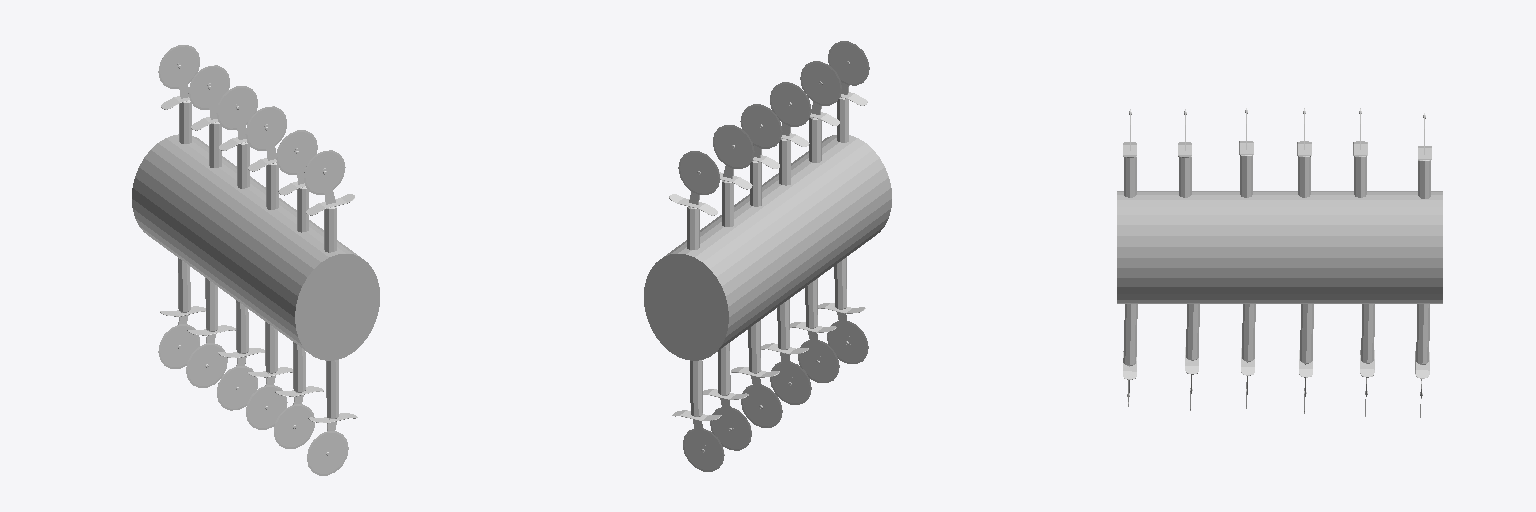
Rendered from donerBicak2.obj.
3 views of the same model, side by side, from view 1: azimuth 30°, elevation 25°; view 2: azimuth 150°, elevation 25°; view 3: azimuth 270°, elevation 25° (orthographic).
Visible parts, largest first — view 1: Cylinder, Pizza_Cutter_Cylinder.005_Pizza_Cutter_Cylinder.010, Pizza_Cutter_Cylinder.009, Pizza_Cutter_Cylinder.018_Pizza_Cutter_Cylinder.019, Pizza_Cutter_Cylinder.015_Pizza_Cutter_Cylinder.017, Pizza_Cutter_Cylinder.002, Pizza_Cutter_Cylinder.017_Pizza_Cutter_Cylinder.018, Pizza_Cutter_Cylinder.013_Pizza_Cutter_Cylinder.014, Pizza_Cutter_Cylinder.004, Pizza_Cutter_Cylinder.016, Pizza_Cutter_Cylinder.014_Pizza_Cutter_Cylinder.015, Pizza_Cutter_Cylinder.003 (+1 smaller); view 2: Cylinder, Pizza_Cutter_Cylinder.013_Pizza_Cutter_Cylinder.014, Pizza_Cutter_Cylinder.016, Pizza_Cutter_Cylinder.001, Pizza_Cutter_Cylinder.017_Pizza_Cutter_Cylinder.018, Pizza_Cutter_Cylinder.003, Pizza_Cutter_Cylinder.014_Pizza_Cutter_Cylinder.015, Pizza_Cutter_Cylinder.018_Pizza_Cutter_Cylinder.019, Pizza_Cutter_Cylinder.002, Pizza_Cutter_Cylinder.005_Pizza_Cutter_Cylinder.010, Pizza_Cutter_Cylinder.015_Pizza_Cutter_Cylinder.017, Pizza_Cutter_Cylinder.004 (+1 smaller); view 3: Cylinder, Pizza_Cutter_Cylinder.013_Pizza_Cutter_Cylinder.014, Pizza_Cutter_Cylinder.005_Pizza_Cutter_Cylinder.010, Pizza_Cutter_Cylinder.018_Pizza_Cutter_Cylinder.019, Pizza_Cutter_Cylinder.017_Pizza_Cutter_Cylinder.018, Pizza_Cutter_Cylinder.014_Pizza_Cutter_Cylinder.015, Pizza_Cutter_Cylinder.015_Pizza_Cutter_Cylinder.017, Pizza_Cutter_Cylinder.002, Pizza_Cutter_Cylinder.003, Pizza_Cutter_Cylinder.004, Pizza_Cutter_Cylinder.001, Pizza_Cutter_Cylinder.009 (+1 smaller).
Boxes of the visible parts, x1=… form: Cylinder: x1=132, y1=134, x2=379, y2=360; Pizza_Cutter_Cylinder.005_Pizza_Cutter_Cylinder.010: x1=307, y1=360, x2=357, y2=475; Pizza_Cutter_Cylinder.009: x1=304, y1=150, x2=354, y2=252; Pizza_Cutter_Cylinder.018_Pizza_Cutter_Cylinder.019: x1=186, y1=278, x2=235, y2=387; Pizza_Cutter_Cylinder.015_Pizza_Cutter_Cylinder.017: x1=274, y1=342, x2=323, y2=448; Pizza_Cutter_Cylinder.002: x1=245, y1=106, x2=286, y2=209; Pizza_Cutter_Cylinder.017_Pizza_Cutter_Cylinder.018: x1=217, y1=300, x2=264, y2=410; Pizza_Cutter_Cylinder.013_Pizza_Cutter_Cylinder.014: x1=158, y1=258, x2=205, y2=368; Pizza_Cutter_Cylinder.004: x1=216, y1=86, x2=257, y2=188; Pizza_Cutter_Cylinder.016: x1=158, y1=45, x2=199, y2=143; Pizza_Cutter_Cylinder.014_Pizza_Cutter_Cylinder.015: x1=246, y1=322, x2=292, y2=429; Pizza_Cutter_Cylinder.003: x1=188, y1=65, x2=229, y2=167; Cylinder: x1=644, y1=135, x2=891, y2=360; Pizza_Cutter_Cylinder.013_Pizza_Cutter_Cylinder.014: x1=672, y1=360, x2=724, y2=471; Pizza_Cutter_Cylinder.016: x1=669, y1=151, x2=719, y2=249; Pizza_Cutter_Cylinder.001: x1=800, y1=61, x2=841, y2=162; Pizza_Cutter_Cylinder.017_Pizza_Cutter_Cylinder.018: x1=731, y1=320, x2=782, y2=427; Pizza_Cutter_Cylinder.003: x1=713, y1=125, x2=754, y2=226; Pizza_Cutter_Cylinder.014_Pizza_Cutter_Cylinder.015: x1=761, y1=299, x2=811, y2=404; Pizza_Cutter_Cylinder.018_Pizza_Cutter_Cylinder.019: x1=703, y1=343, x2=751, y2=450; Pizza_Cutter_Cylinder.002: x1=770, y1=82, x2=811, y2=185; Pizza_Cutter_Cylinder.005_Pizza_Cutter_Cylinder.010: x1=818, y1=257, x2=868, y2=363; Pizza_Cutter_Cylinder.015_Pizza_Cutter_Cylinder.017: x1=790, y1=278, x2=839, y2=382; Pizza_Cutter_Cylinder.004: x1=740, y1=104, x2=782, y2=206; Cylinder: x1=1117, y1=191, x2=1442, y2=303; Pizza_Cutter_Cylinder.013_Pizza_Cutter_Cylinder.014: x1=1415, y1=304, x2=1429, y2=417; Pizza_Cutter_Cylinder.005_Pizza_Cutter_Cylinder.010: x1=1123, y1=304, x2=1137, y2=406; Pizza_Cutter_Cylinder.018_Pizza_Cutter_Cylinder.019: x1=1360, y1=304, x2=1374, y2=416; Pizza_Cutter_Cylinder.017_Pizza_Cutter_Cylinder.018: x1=1299, y1=304, x2=1313, y2=413; Pizza_Cutter_Cylinder.014_Pizza_Cutter_Cylinder.015: x1=1241, y1=304, x2=1255, y2=408; Pizza_Cutter_Cylinder.015_Pizza_Cutter_Cylinder.017: x1=1185, y1=304, x2=1199, y2=410; Pizza_Cutter_Cylinder.002: x1=1239, y1=108, x2=1253, y2=197; Pizza_Cutter_Cylinder.003: x1=1353, y1=108, x2=1367, y2=197; Pizza_Cutter_Cylinder.004: x1=1297, y1=108, x2=1311, y2=197; Pizza_Cutter_Cylinder.001: x1=1178, y1=109, x2=1191, y2=197; Pizza_Cutter_Cylinder.009: x1=1123, y1=109, x2=1136, y2=197.
Size of the model in its own units: 0.1638 by 0.5976 by 0.5429.